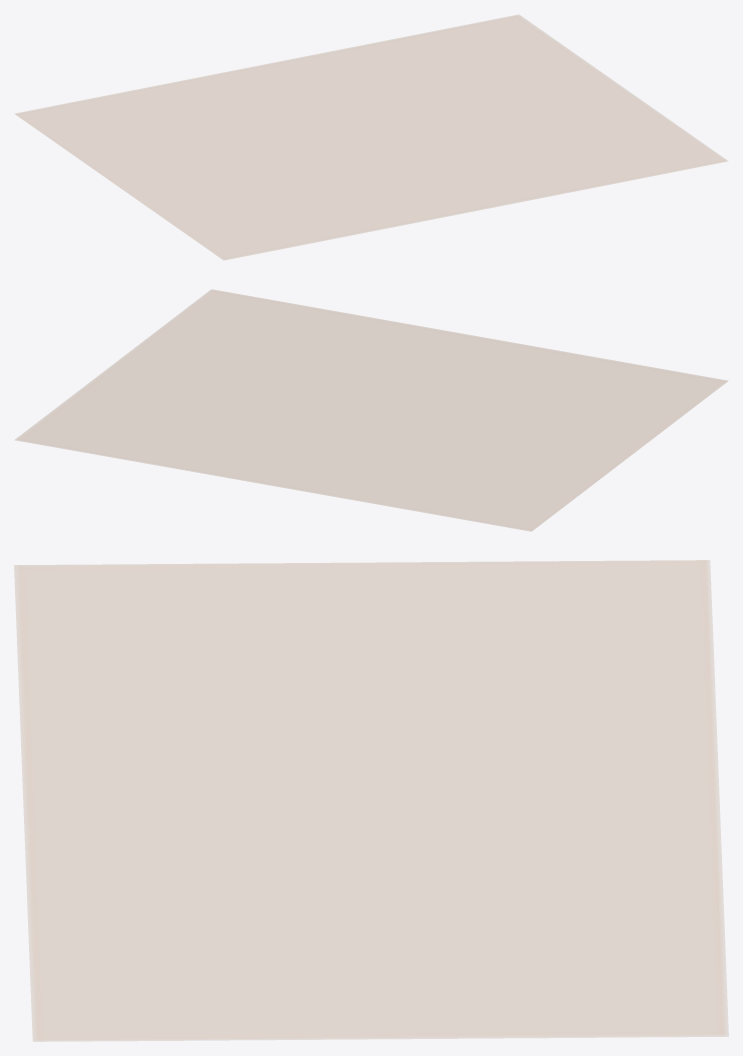
File: Tx_props_uni_paper.fbx
3 views of the same model, one above another, from view 1: azimuth 30°, elevation 25°; view 2: azimuth 150°, elevation 25°; view 3: azimuth 270°, elevation 25° (orthographic). The views are drawn at different scales.
Visible parts, largest first — view 1: Tx_props_uni_paper; view 2: Tx_props_uni_paper; view 3: Tx_props_uni_paper.
Boxes of the visible parts, <box> form: Tx_props_uni_paper: <box>14,14,728,260</box>; Tx_props_uni_paper: <box>14,289,728,531</box>; Tx_props_uni_paper: <box>14,560,728,1041</box>.
Bounding box in the file's own units: 1.63 × 0.0888 × 1.14.
